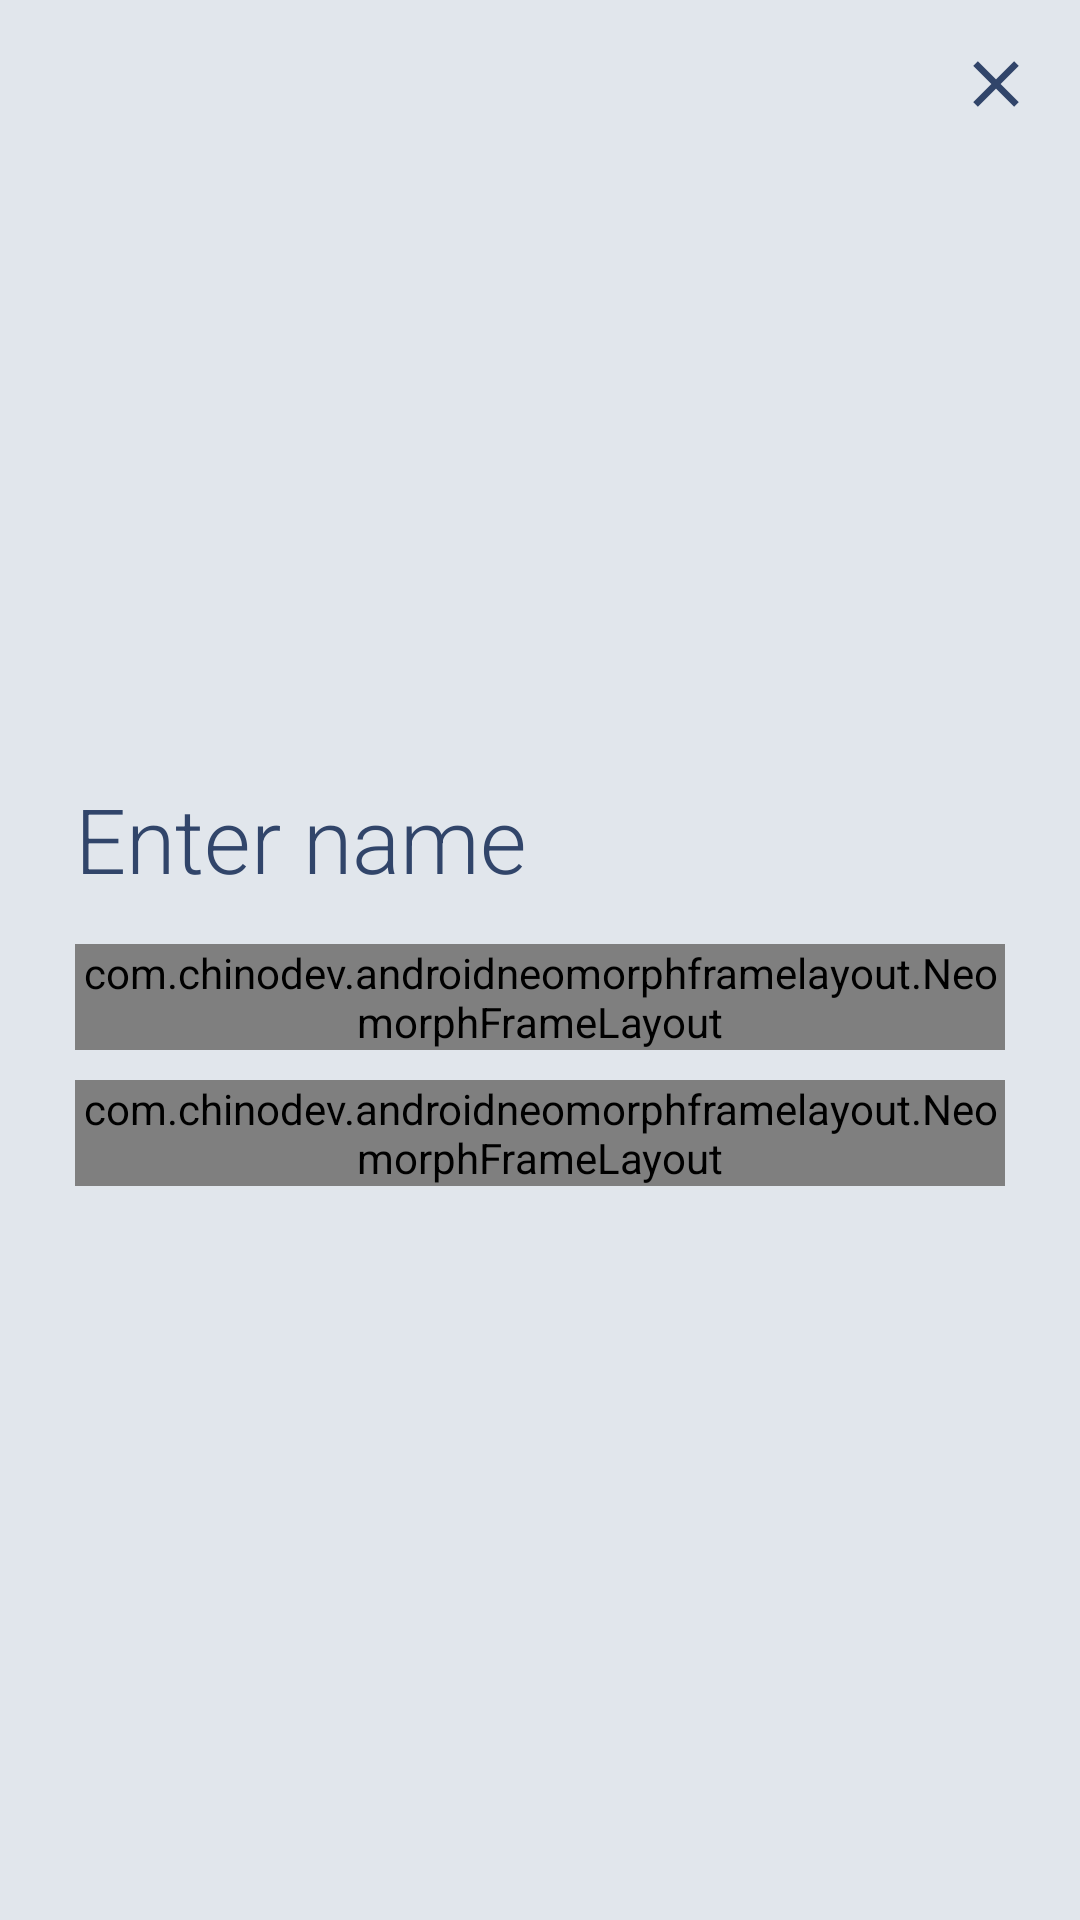

Point at icon controls on the screen. Image size 1080×1920, points as (x,y).
close: (996,84)
